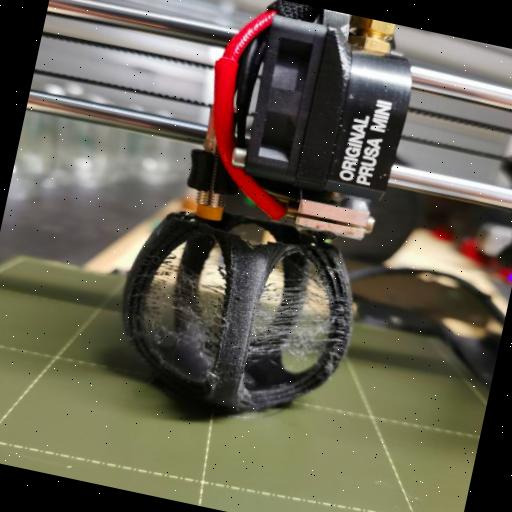stringing: (238, 271, 348, 377), (126, 260, 234, 360)
